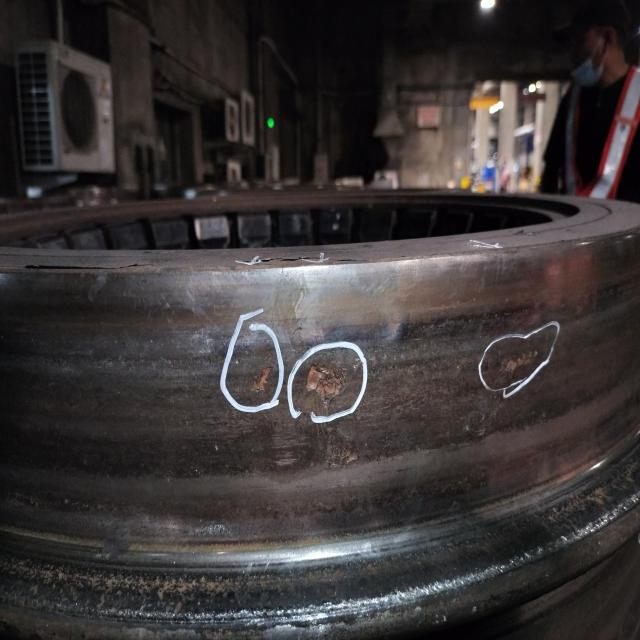Blue hole: (305, 361, 356, 413), (249, 356, 273, 400)
Peeling: (500, 347, 542, 381)
